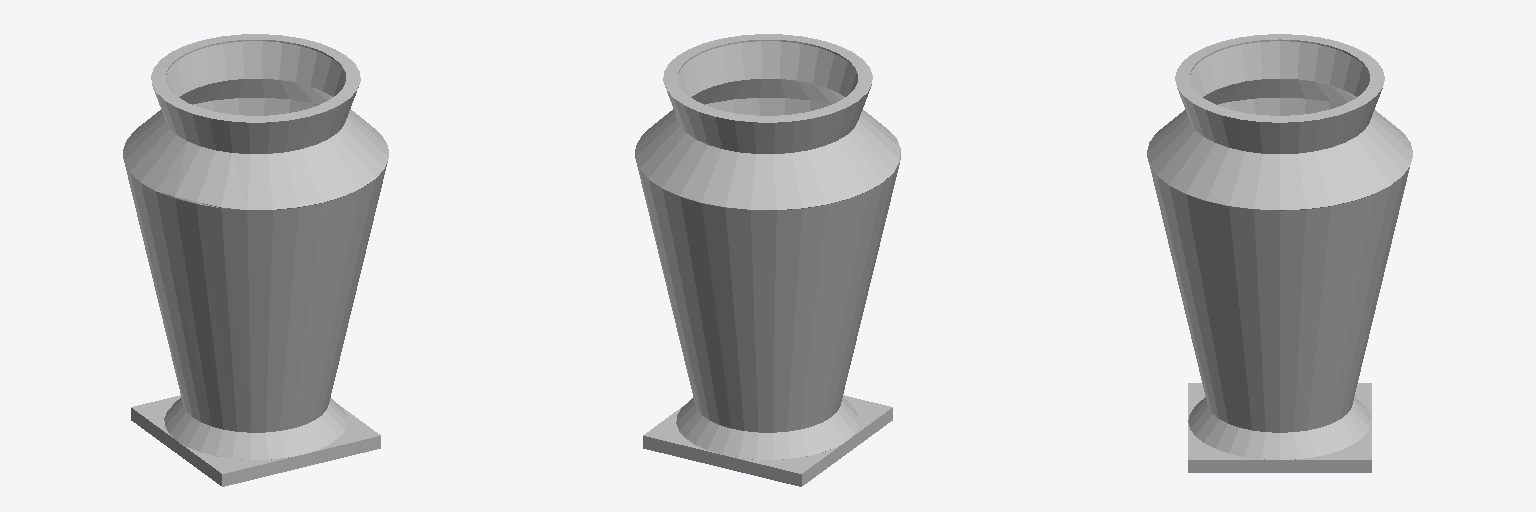
Rendered from амфора.obj.
3 renders of one model, left to right at view 1: azimuth 30°, elevation 25°; view 2: azimuth 150°, elevation 25°; view 3: azimuth 270°, elevation 25°, orthographic.
Visible parts, largest first — view 1: Окружность; view 2: Окружность; view 3: Окружность.
Boxes of the visible parts, <box> form: Окружность: <box>123,34,388,486</box>; Окружность: <box>635,34,900,486</box>; Окружность: <box>1147,34,1412,472</box>.
Bounding box in the file's own units: 2.95 × 4.35 × 2.95.